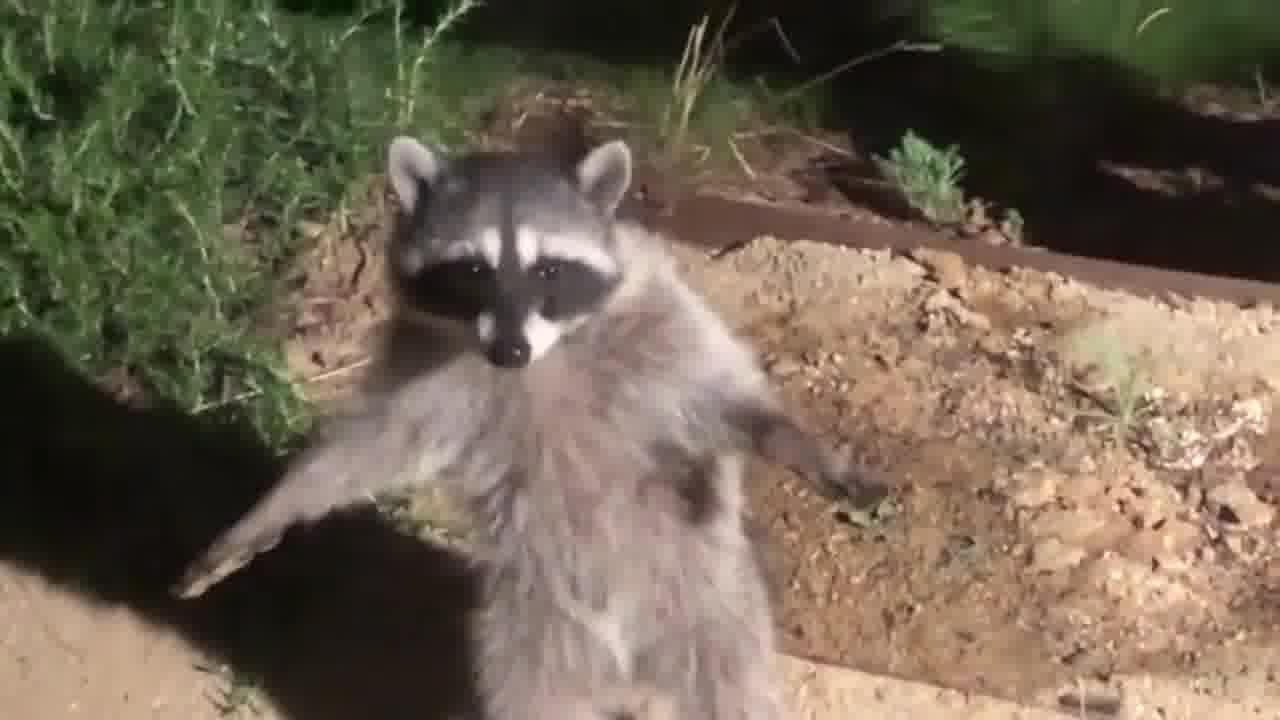raccoon: (171, 134, 892, 720)
